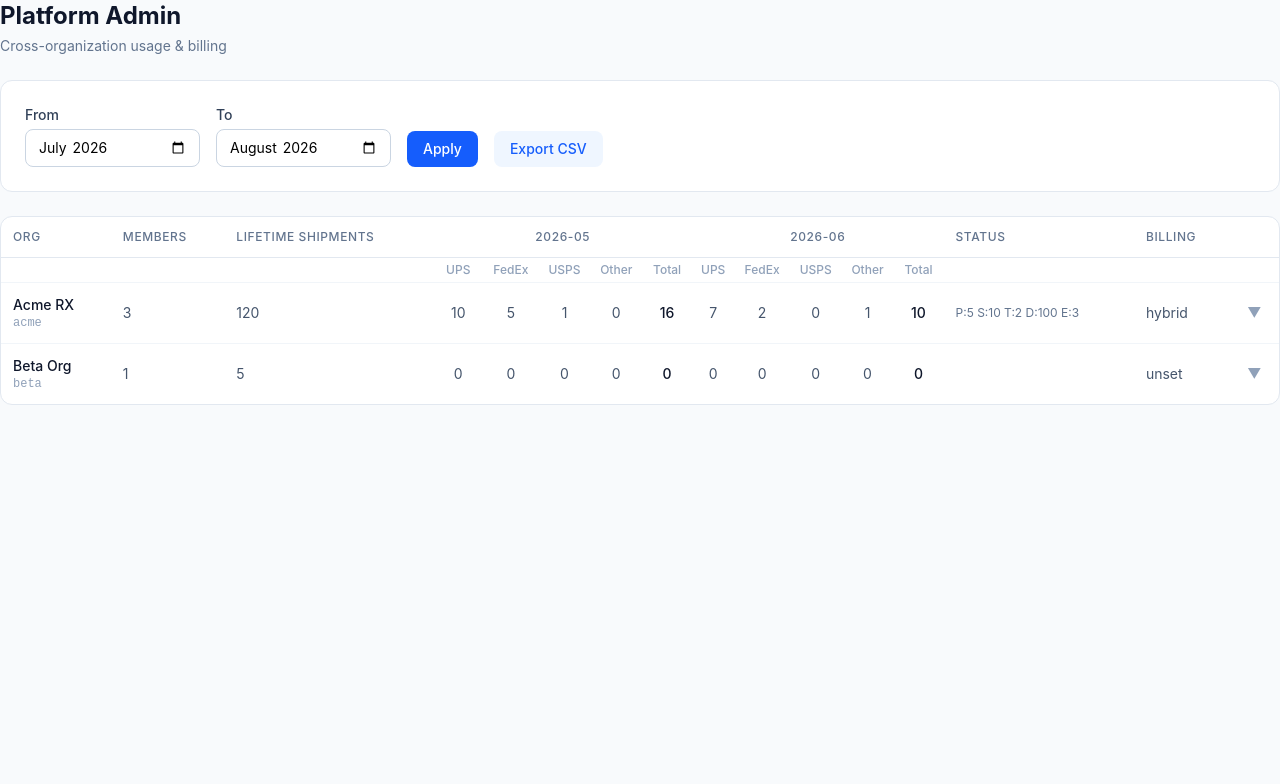
AdminDashboardPage › shows billing editor with prefilled values when org row is expanded
Click the row with test id "admin-org-row-acme" at x=640, y=313, box [1, 282, 1279, 344]
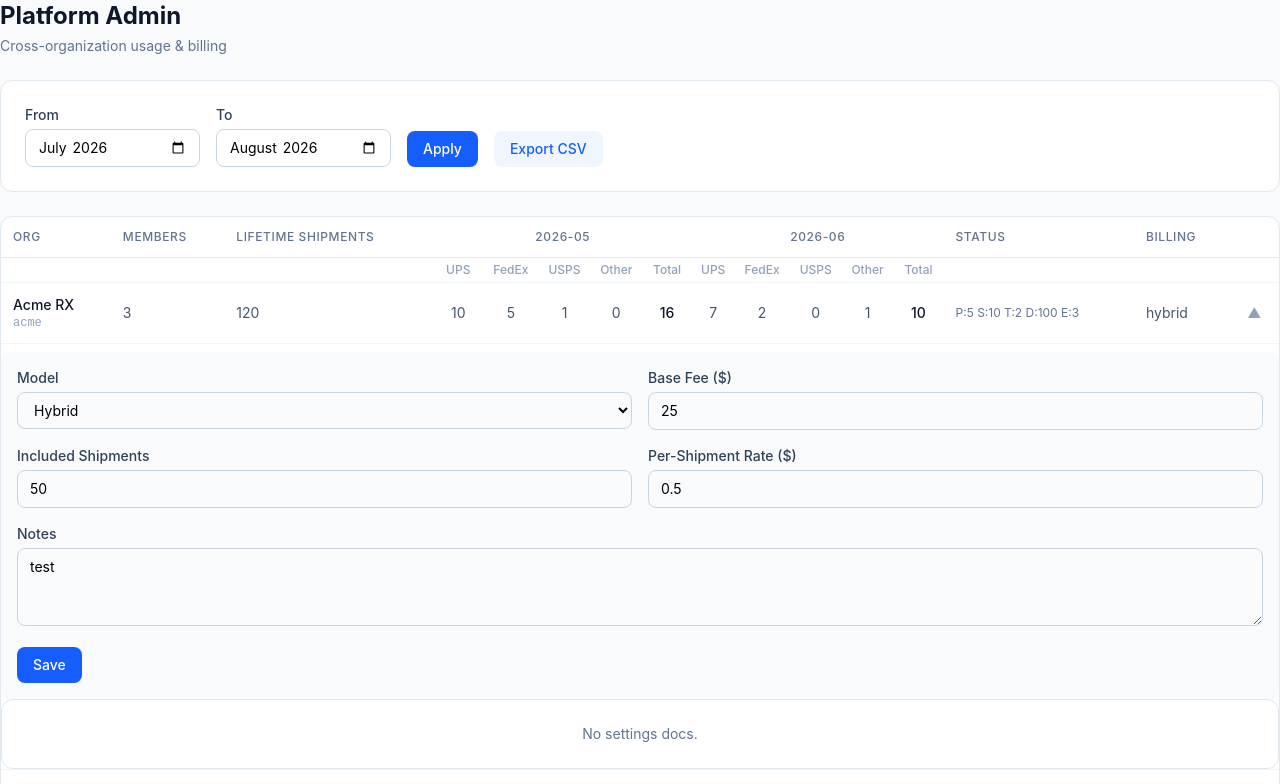
Expected: the element with test id "admin-billing-editor-acme" is shown, [1, 352, 1279, 699]
Expected: the dropdown shows "Hybrid", [17, 392, 632, 429]
